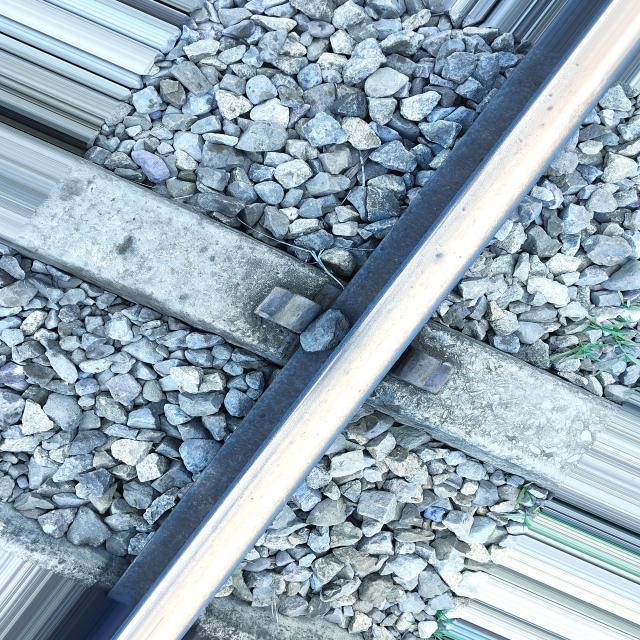Missing Fastener: (250, 278, 328, 350), (390, 350, 451, 405)
